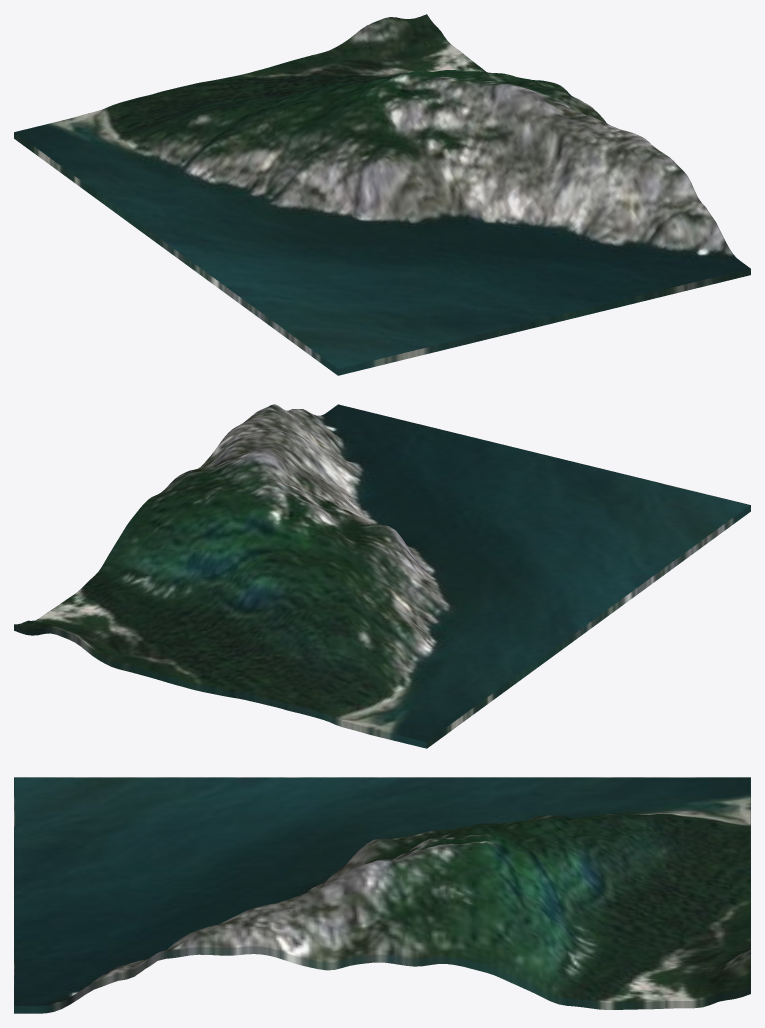
The picture shows the model from 3 angles, top to bottom: view 1: azimuth 30°, elevation 25°; view 2: azimuth 150°, elevation 25°; view 3: azimuth 270°, elevation 25°; orthographic projection. The views are drawn at different scales.
Visible parts, largest first — view 1: tile; view 2: tile; view 3: tile.
Part boxes in pixels (bbox=[...]): tile: bbox=[14, 14, 750, 375]; tile: bbox=[14, 404, 750, 748]; tile: bbox=[14, 777, 750, 1013].
Size of the model in its own units: 2025 by 432 by 2752.
Materials: 1 (1 with a texture image).
